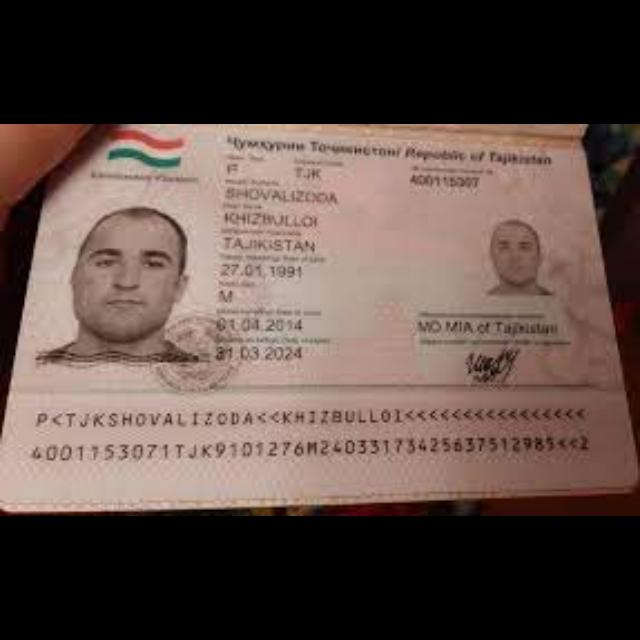passport: (0, 124, 640, 516)
